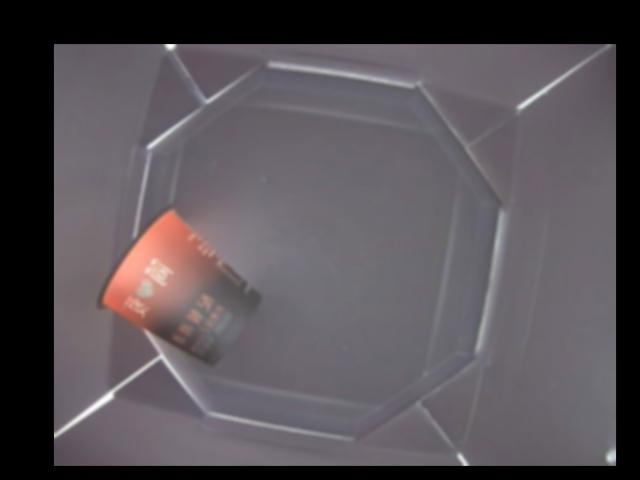Cup: (93, 201, 261, 364)
